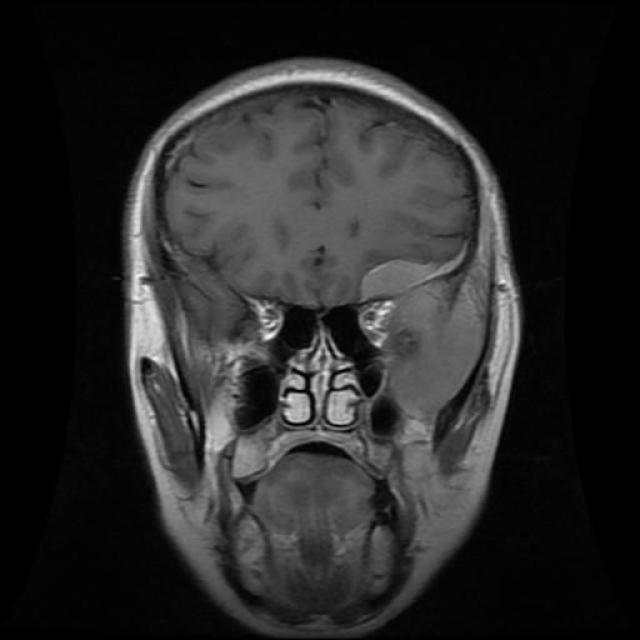Meningioma: (360, 240, 471, 302)
